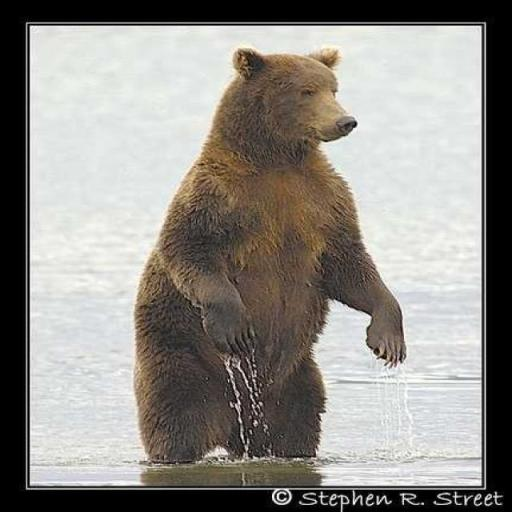Bear: (132, 45, 406, 464)
